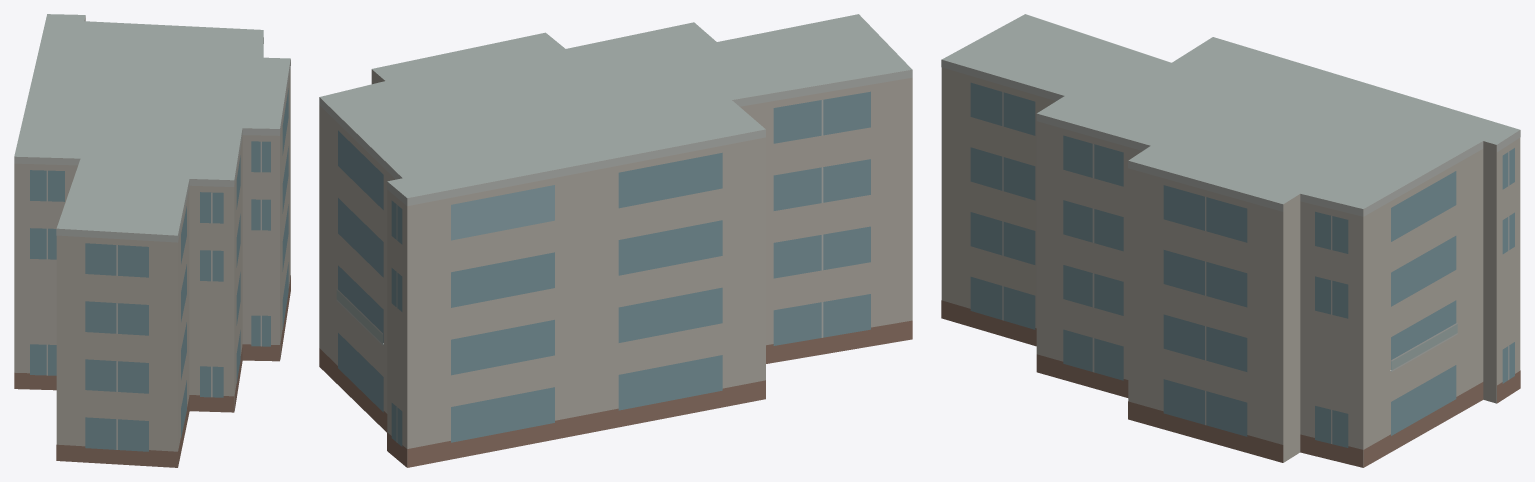
Rendered from survey-upis-32508805.glb.
The picture shows the model from 3 angles, left to right: view 1: azimuth 30°, elevation 25°; view 2: azimuth 150°, elevation 25°; view 3: azimuth 270°, elevation 25°; orthographic projection. The views are drawn at different scales.
Parts seen in each view (by area): view 1: survey-upis-32508805.tmp; view 2: survey-upis-32508805.tmp; view 3: survey-upis-32508805.tmp.
Part boxes in pixels (x1,y1,x2,y2): survey-upis-32508805.tmp: (14, 14, 290, 467); survey-upis-32508805.tmp: (319, 14, 912, 467); survey-upis-32508805.tmp: (941, 14, 1520, 467).
Size of the model in its own units: 13.36 by 8.25 by 16.74.
